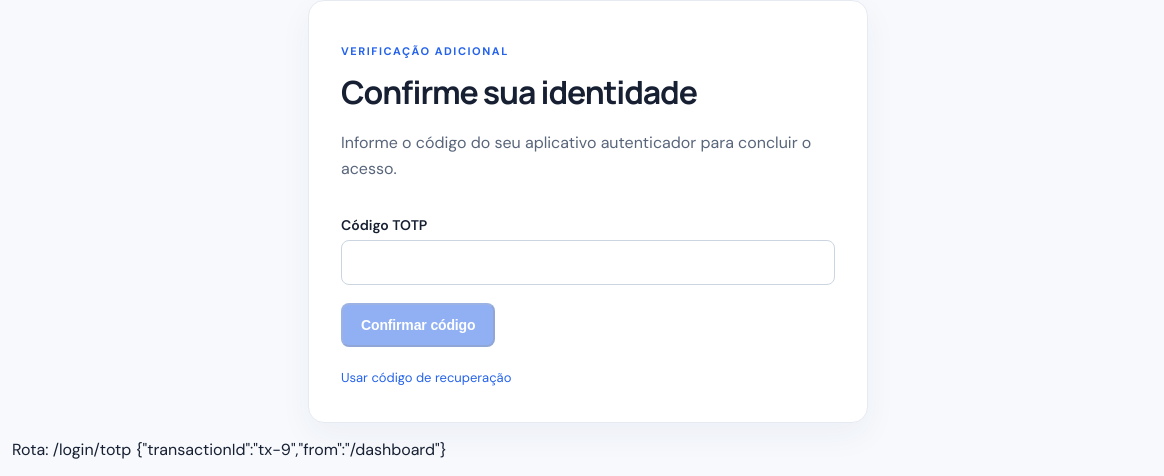
Test: TOTP step submits the real transaction id and signs in
In the field labelled "Código TOTP": (588, 262) [341, 240, 835, 285], type "123456"
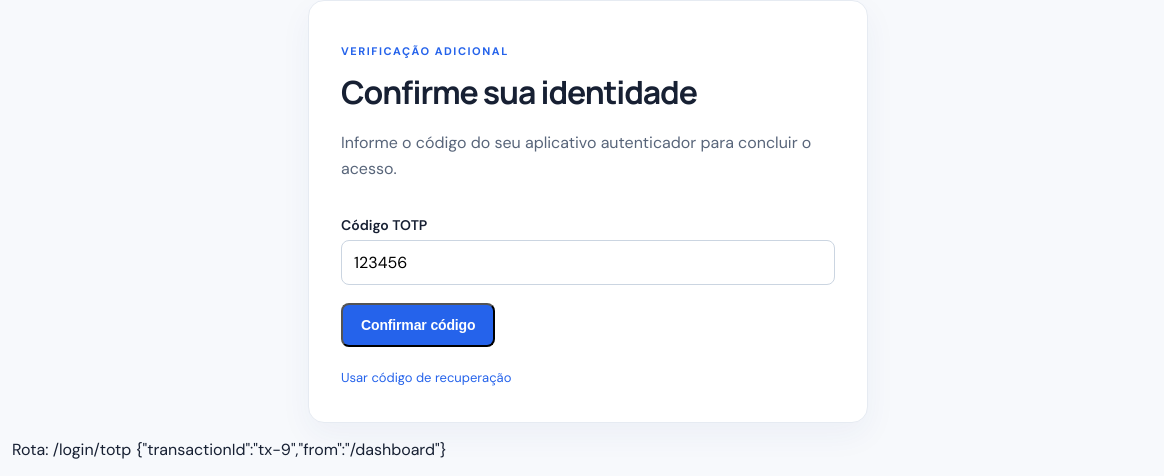
Click the button "Confirmar código": (418, 325) [341, 303, 495, 347]
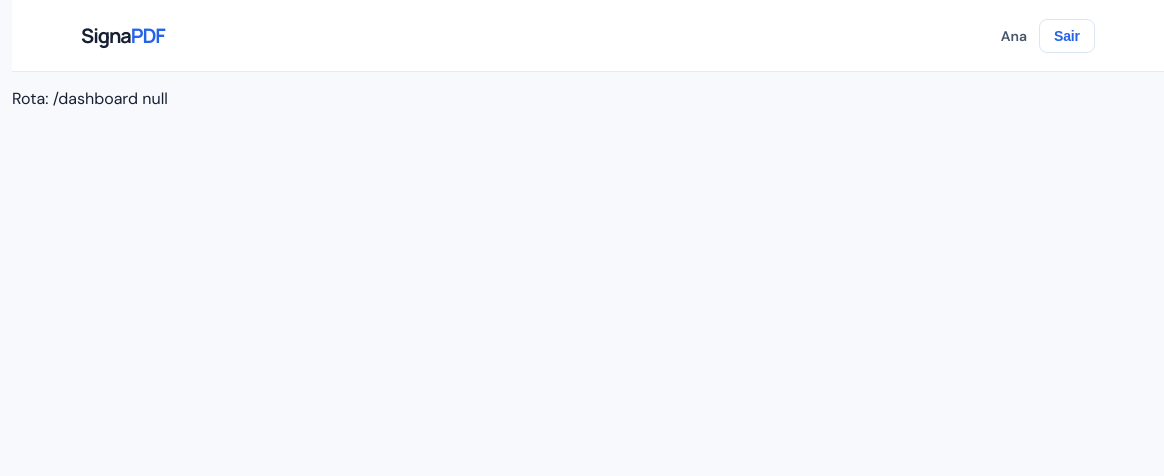
Check: the text "Rota: /dashboard null" is shown, box [12, 88, 168, 109]
